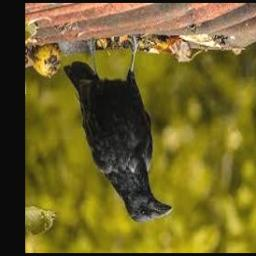Crow: (64, 38, 173, 224)
